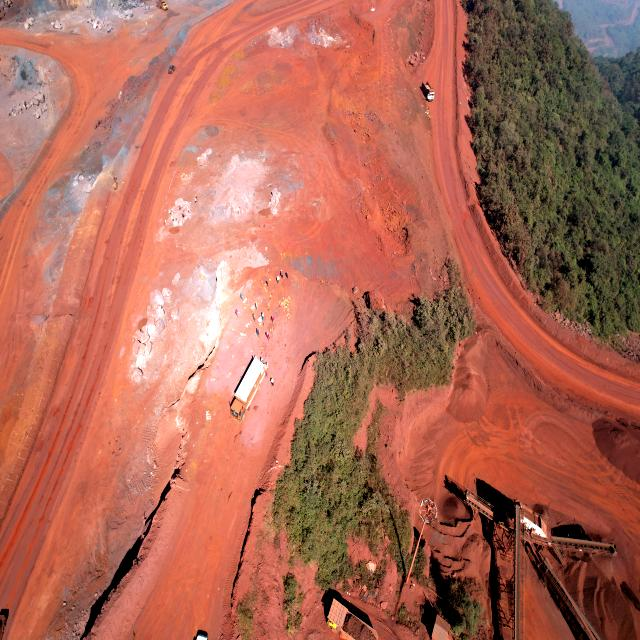Dumper truck: (323, 592, 378, 640), (423, 82, 436, 100), (156, 0, 167, 10)
car: (168, 64, 174, 73)
person: (280, 270, 284, 278), (277, 276, 280, 284), (235, 308, 238, 316), (272, 316, 275, 324), (266, 280, 268, 288), (256, 302, 258, 310)
